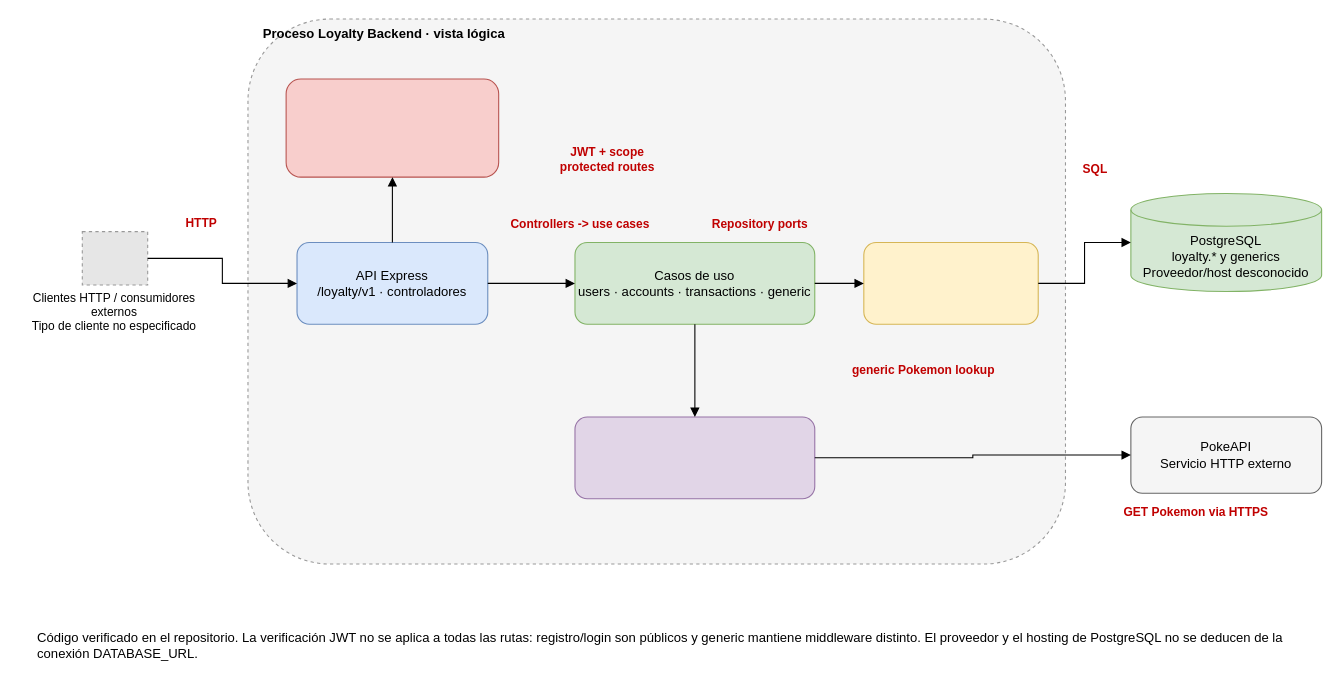
Some shapes in this 1341 by 698 pixel diagram are drawn without their labels. Grey dashed boxes stand in for pictures. Here are the shapes that lost their labels. From the top down, the centre of each, then its label:
At [392,127]: "Autenticación y scopes JWT Bearer · HS256 Rutas seleccionadas".
At [950,282]: "Repositorios Consultas SQL mediante pg Pool".
At [694,457]: "PokeApiAdapter Cliente Axios · timeout 4 s".
